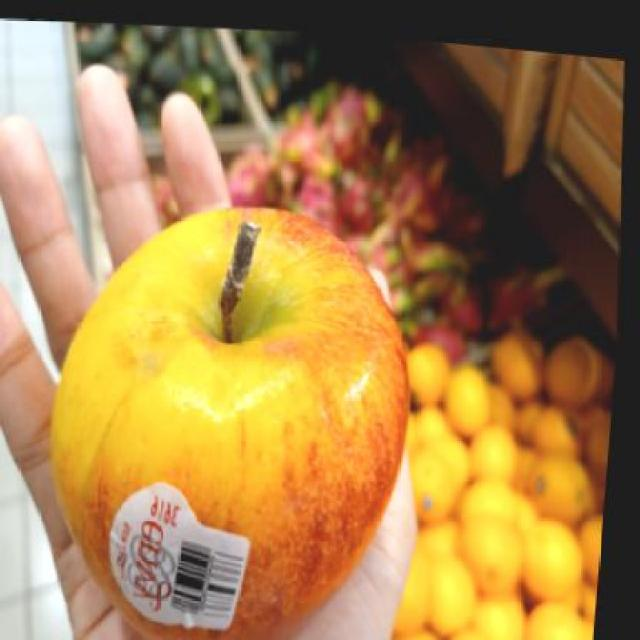Fresh Apple: (37, 206, 417, 625)
